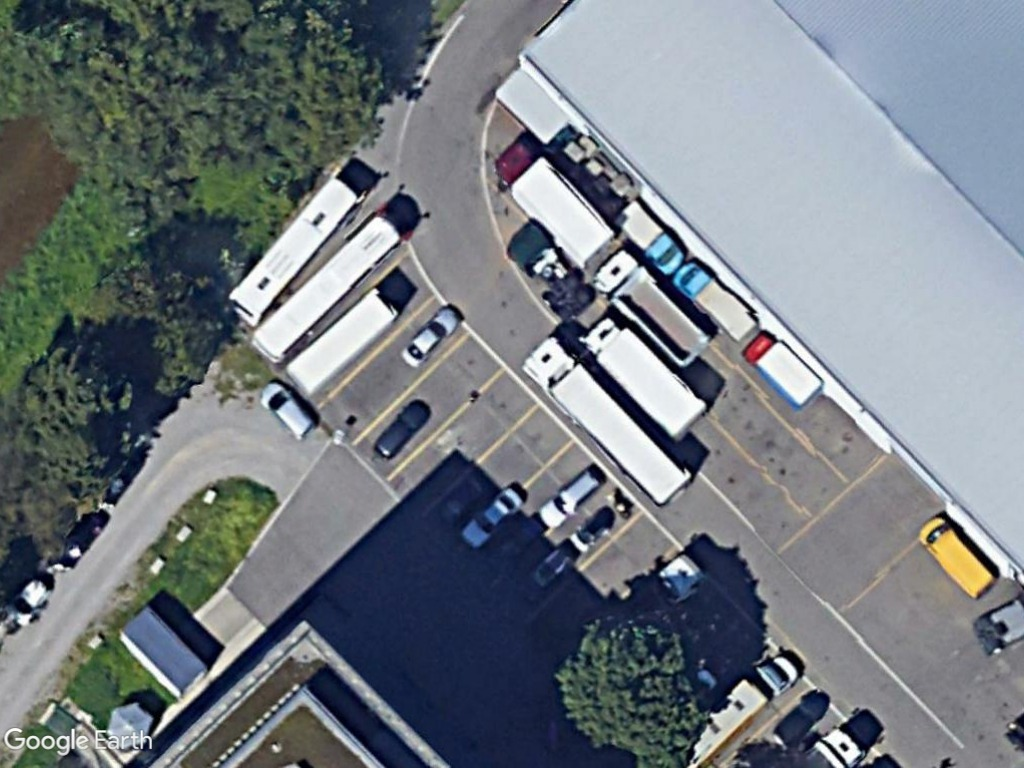bus: (245, 206, 409, 368), (224, 173, 366, 324)
car: (535, 462, 603, 532), (456, 483, 527, 550), (398, 301, 463, 369), (257, 379, 319, 444)
longvehicle: (519, 332, 697, 508)
others: (581, 245, 714, 366)
truck: (578, 311, 711, 442), (494, 139, 617, 266), (740, 327, 834, 414)
van: (916, 509, 998, 603)
